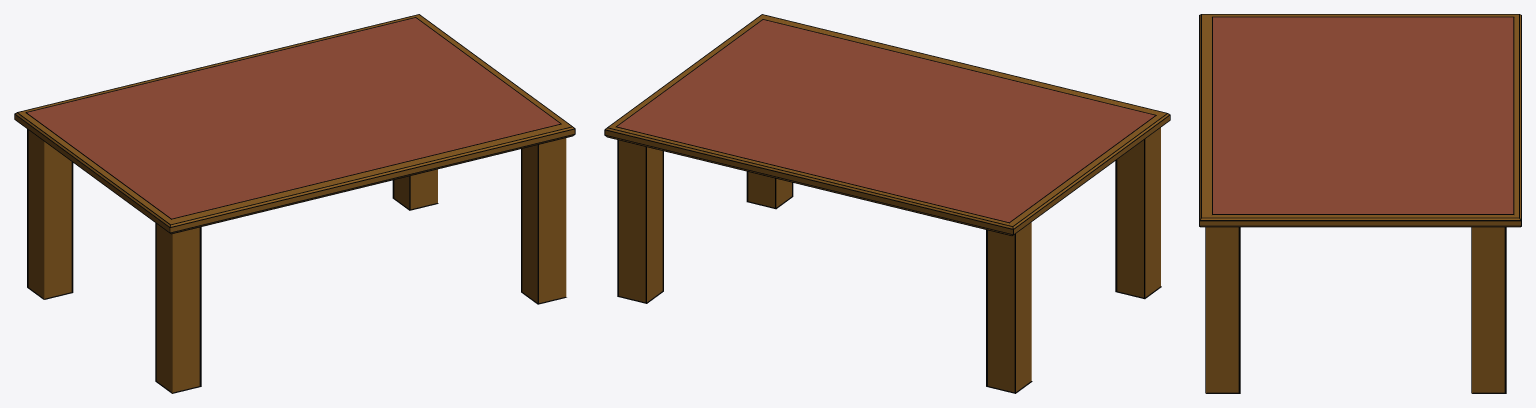
File: Table.fbx
The picture shows the model from 3 angles, left to right: view 1: azimuth 30°, elevation 25°; view 2: azimuth 150°, elevation 25°; view 3: azimuth 270°, elevation 25°; orthographic projection. The views are drawn at different scales.
Parts seen in each view (by area): view 1: Cube.017; view 2: Cube.017; view 3: Cube.017.
Boxes of the visible parts, box(x1,y1,x2,y2) form: Cube.017: box(14, 14, 575, 393); Cube.017: box(604, 14, 1170, 393); Cube.017: box(1199, 14, 1521, 393).
Size of the model in its own units: 1580 by 641 by 1049.
